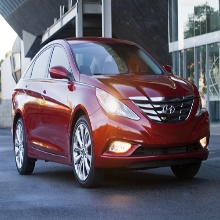no damage: (10, 36, 211, 189)
